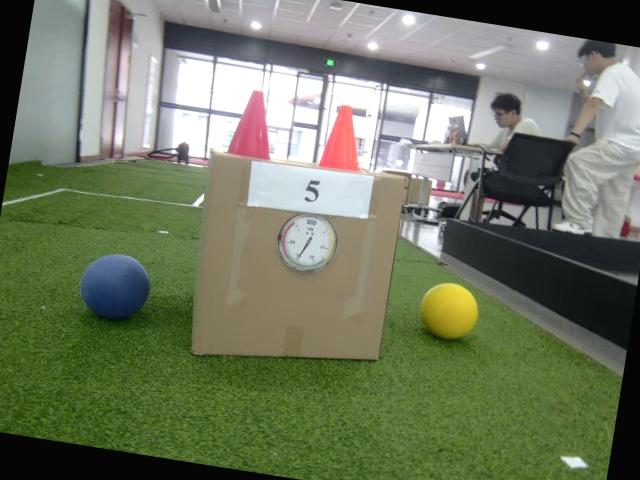5: (302, 178, 322, 205)
Dashboard: (275, 209, 341, 276)
blue_ball: (77, 248, 154, 326)
orange_barrel: (318, 100, 372, 174)
red_barrel: (225, 85, 282, 162)
ssi: (302, 219, 319, 227)
yellow_ball: (417, 280, 481, 341)
